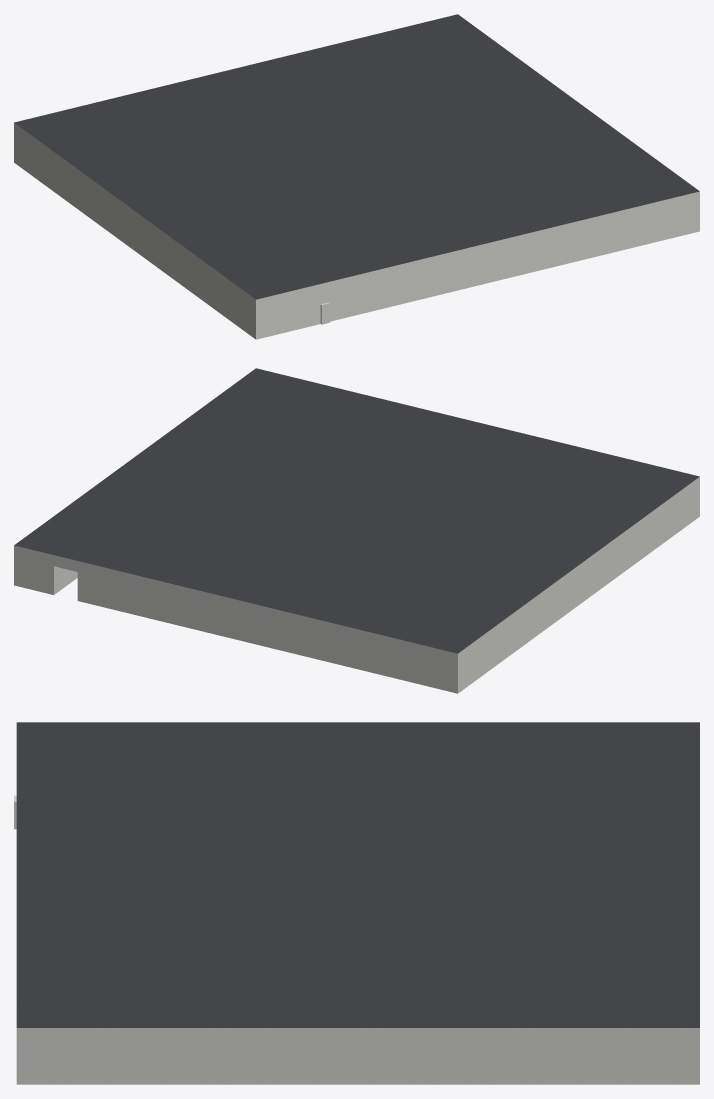
Rendered from gbi_L4_3.glb.
3 renders of one model, top to bottom at view 1: azimuth 30°, elevation 25°; view 2: azimuth 150°, elevation 25°; view 3: azimuth 270°, elevation 25°, orthographic. The views are drawn at different scales.
Visible parts, largest first — view 1: M_D_ceil_L4, M_D_wall_L4; view 2: M_D_ceil_L4, M_D_wall_L4; view 3: M_D_ceil_L4, M_D_wall_L4.
Part boxes in pixels (box(x1,y1,x2,y2)): M_D_ceil_L4: box(14, 14, 699, 299); M_D_wall_L4: box(14, 123, 699, 339); M_D_ceil_L4: box(14, 368, 699, 653); M_D_wall_L4: box(14, 477, 699, 693); M_D_ceil_L4: box(16, 722, 699, 1027); M_D_wall_L4: box(14, 795, 699, 1084).
Bounding box in the file's own units: 52.2 × 4.5 × 49.5.
23 materials, 10 textured.
